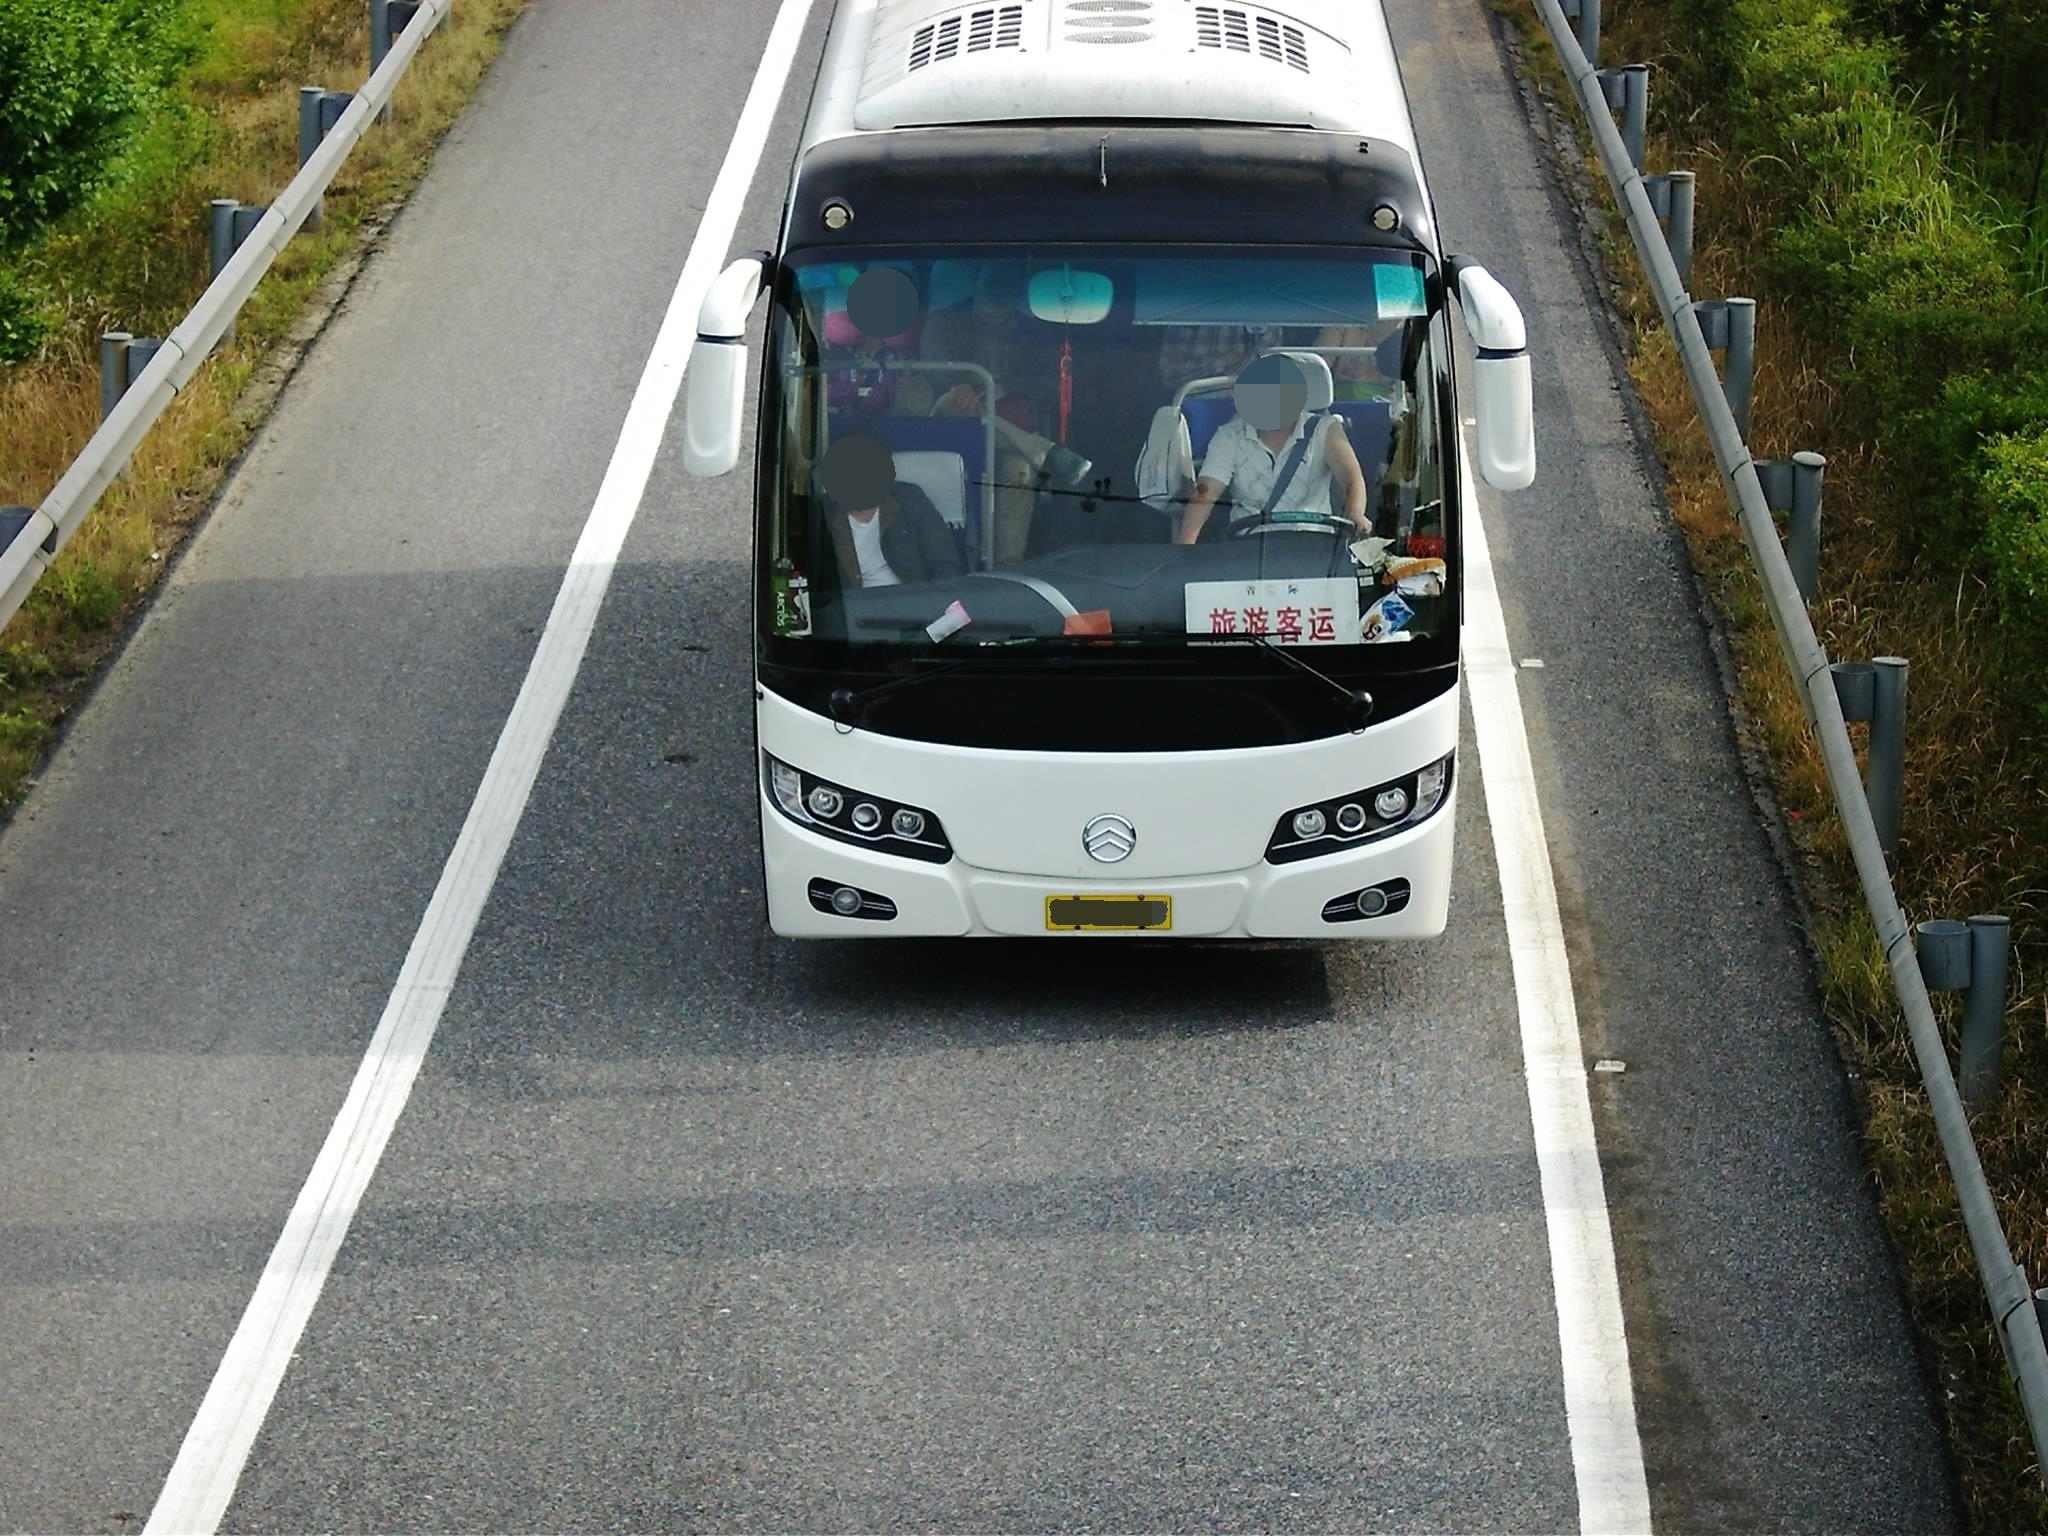plate: (1038, 894, 1173, 922)
